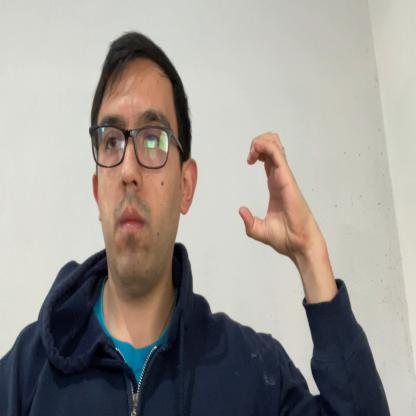C: (237, 130, 306, 262)
